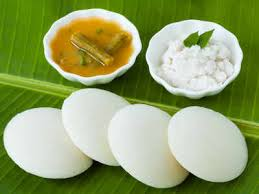idli: (5, 88, 256, 186)
